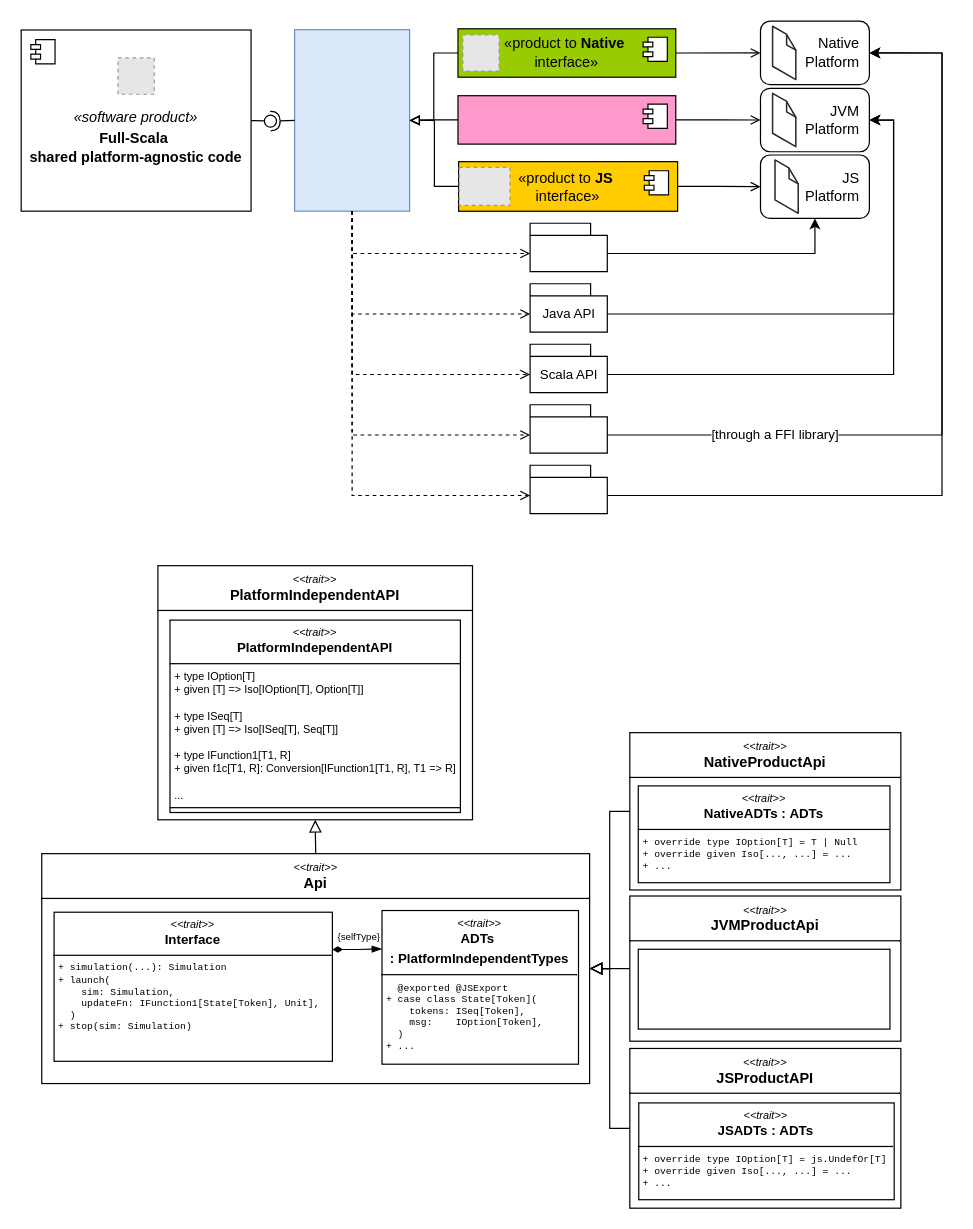
This 973x1229 diagram has some shape labels left out. Grey dashed boxes stand in for pictures. The centre of each missing label's shape, as x and y in pixels:
"Depowered Scala" Cross-Platform API: pixel 351 119
.jar: pixel 783 119
.mjs: pixel 786 186
.so: pixel 783 52
<<trait>> JVMADTs : ADTs + override type IOption[T] = Option[T] + ...: pixel 763 988
C API: pixel 568 489
JS API: pixel 568 247
Python API*: pixel 568 428
«product to JVM interface»: pixel 566 119
